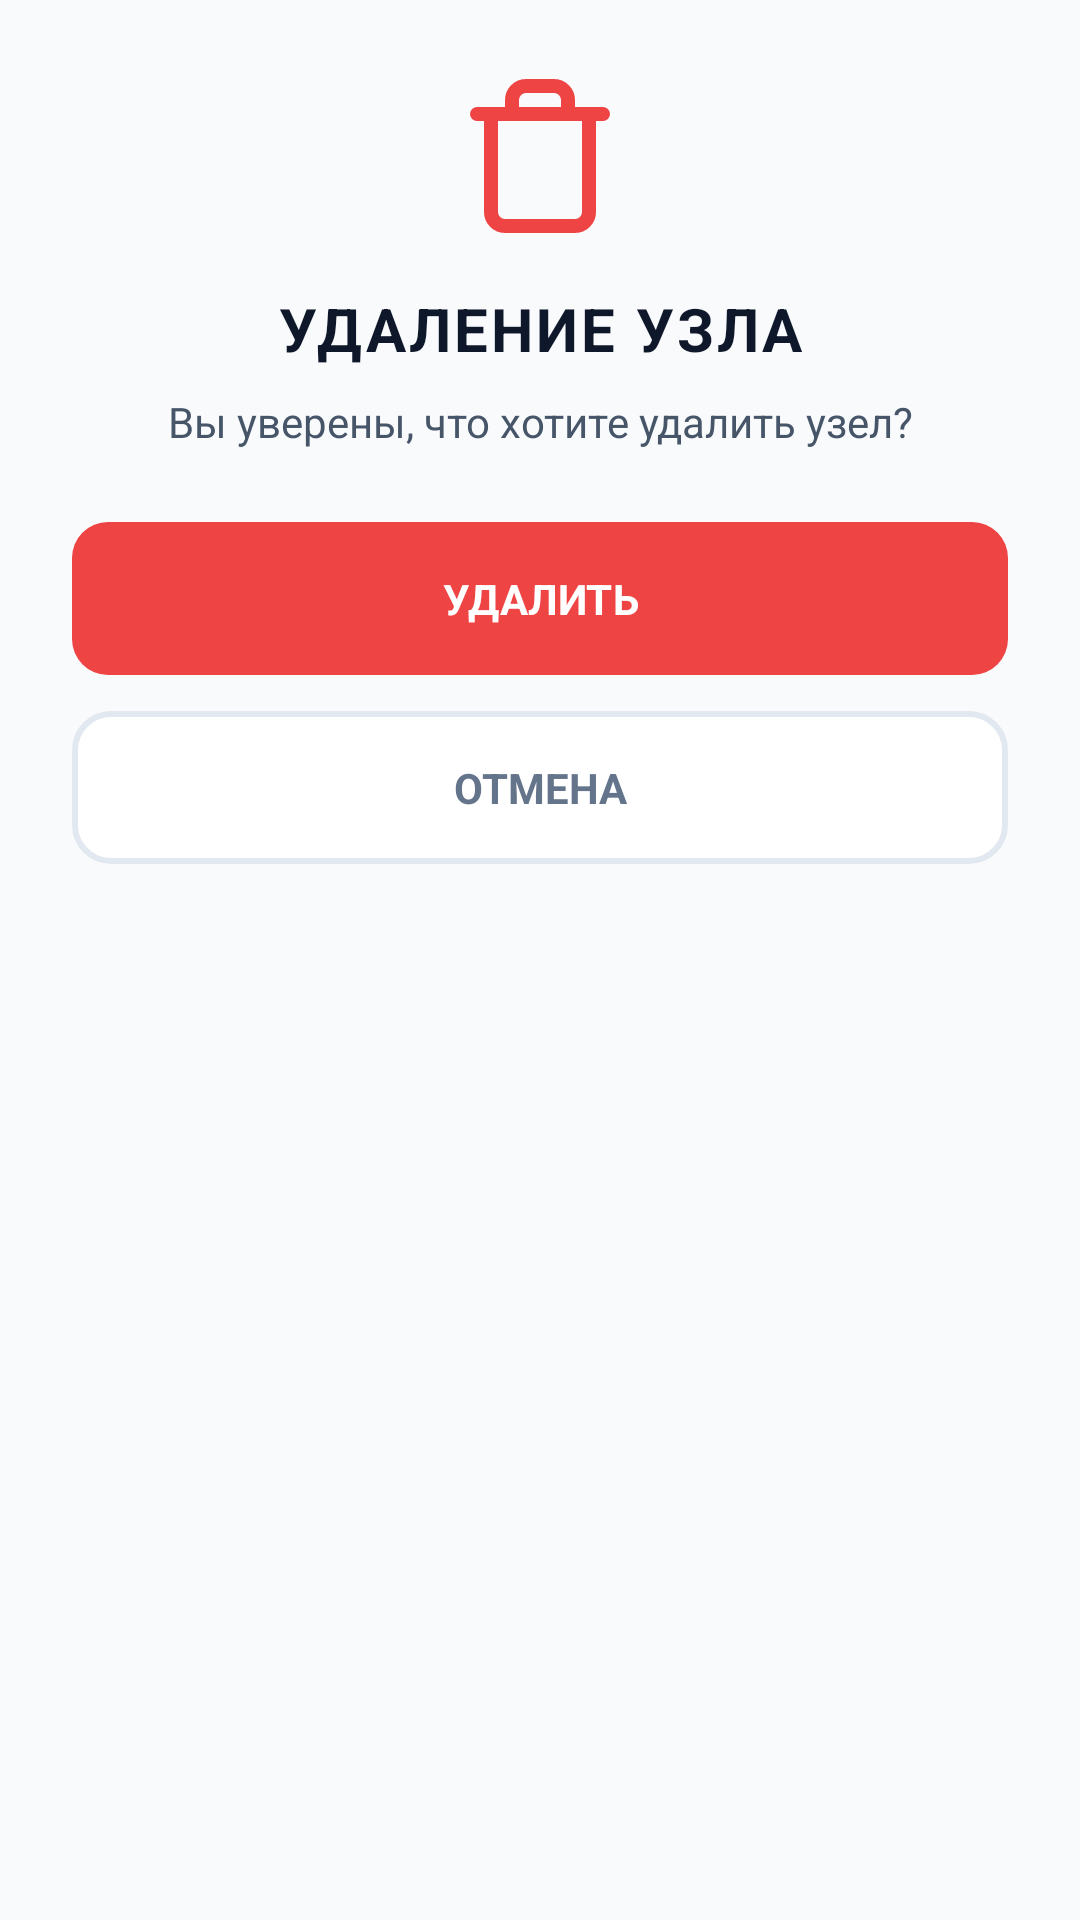

Named icons in this screenshot (1080w x 1920h) and their centers, point (x, y):
delete: point (540, 156)
